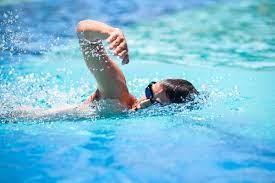Swimming: (17, 13, 237, 136)
